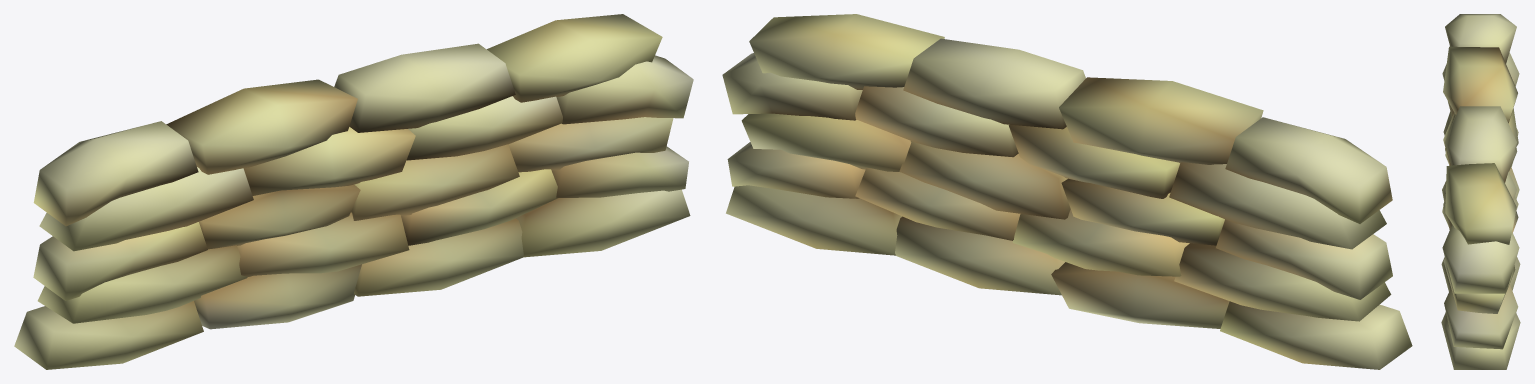
Rendered from sandbags_01_straight_a.dae.
3 views of the same model, side by side, from view 1: azimuth 30°, elevation 25°; view 2: azimuth 150°, elevation 25°; view 3: azimuth 270°, elevation 25° (orthographic). The views are drawn at different scales.
Visible parts, largest first — view 1: sandbagsSA8; view 2: sandbagsSA8; view 3: sandbagsSA8.
Boxes of the visible parts, x1=… form: sandbagsSA8: x1=14, y1=14, x2=693, y2=369; sandbagsSA8: x1=722, y1=14, x2=1412, y2=369; sandbagsSA8: x1=1441, y1=14, x2=1520, y2=369.
Size of what is drawn, in the model's own units: 2.83 by 0.4004 by 0.9434.
